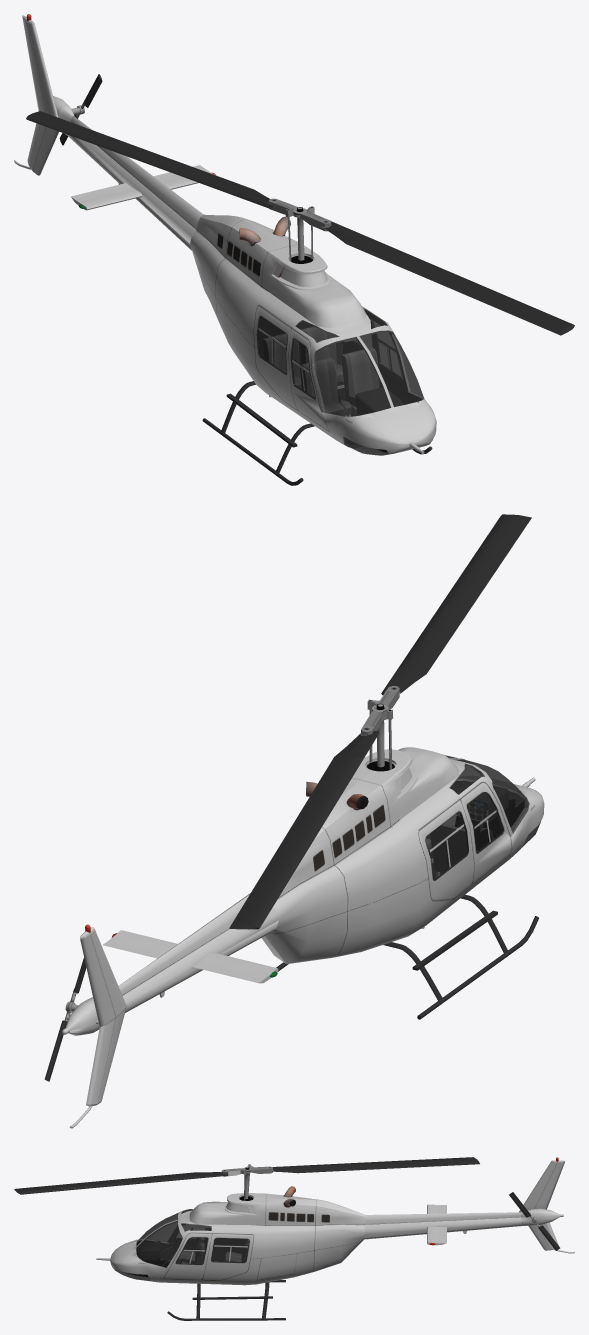
Rendered from Bell-206.glb.
The picture shows the model from 3 angles, top to bottom: view 1: azimuth 30°, elevation 25°; view 2: azimuth 150°, elevation 25°; view 3: azimuth 270°, elevation 25°; orthographic projection. The views are drawn at different scales.
Visible parts, largest first — view 1: B206JR.002, glass, B206_main_rotor; view 2: B206JR.002, B206_main_rotor, glass; view 3: B206JR.002, B206_main_rotor, glass, B206_tail_rotor.
Part boxes in pixels (left/top/right/bottom): B206JR.002: left=14, top=14, right=436, bottom=485; glass: left=257, top=308, right=433, bottom=455; B206_main_rotor: left=26, top=111, right=574, bottom=335; B206JR.002: left=62, top=747, right=544, bottom=1128; B206_main_rotor: left=229, top=514, right=531, bottom=929; glass: left=425, top=755, right=540, bottom=879; B206JR.002: left=96, top=1157, right=574, bottom=1320; B206_main_rotor: left=14, top=1157, right=479, bottom=1200; glass: left=115, top=1209, right=249, bottom=1281; B206_tail_rotor: left=509, top=1192, right=560, bottom=1250.
Size of the model in its own units: 2.59 by 3.28 by 11.93.
Materials: 3 (2 with a texture image).
